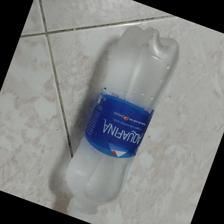Aquafina: (66, 23, 182, 215)
